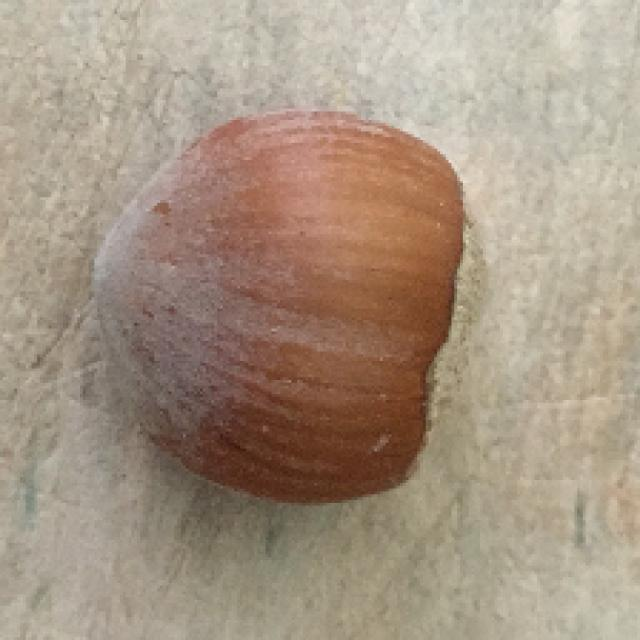qualityHazelnut: (89, 109, 475, 502)
